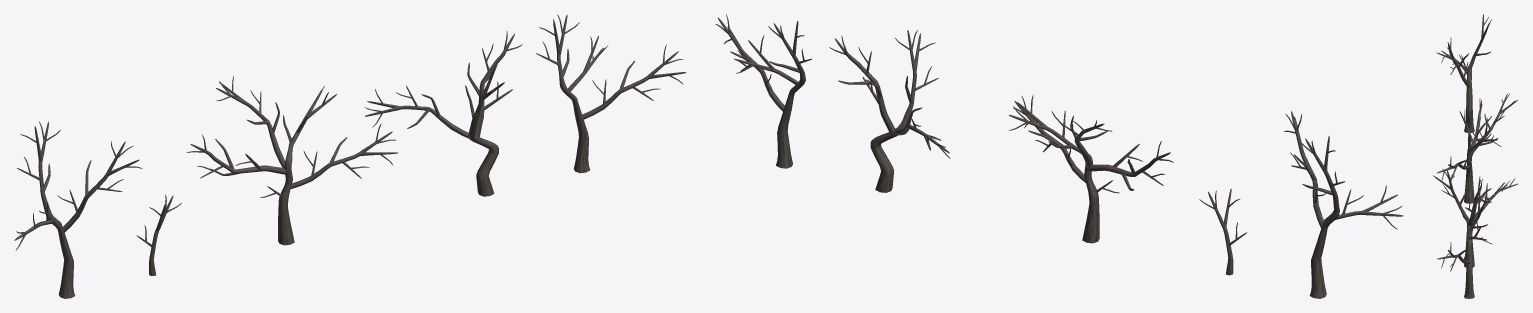
File: DeadTrees.glb
The picture shows the model from 3 angles, left to right: view 1: azimuth 30°, elevation 25°; view 2: azimuth 150°, elevation 25°; view 3: azimuth 270°, elevation 25°; orthographic projection. The views are drawn at different scales.
Parts seen in each view (by area): view 1: DeadTree_10; view 2: DeadTree_10; view 3: DeadTree_10.
Boxes of the visible parts, x1,y1,x2,y2 form: DeadTree_10: (14, 14, 686, 298); DeadTree_10: (715, 14, 1403, 298); DeadTree_10: (1432, 14, 1517, 298).
Size of the model in its own units: 29.75 by 7.13 by 5.03.
Materials: 1 (1 with a texture image).
